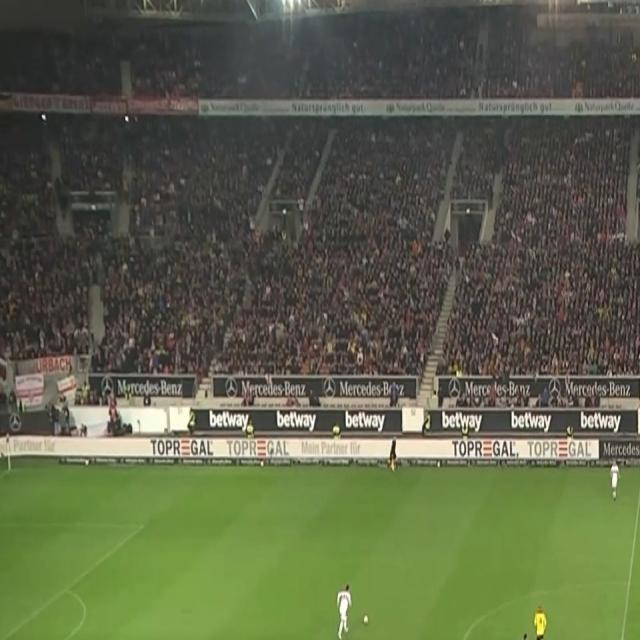ball: (362, 613, 369, 626)
